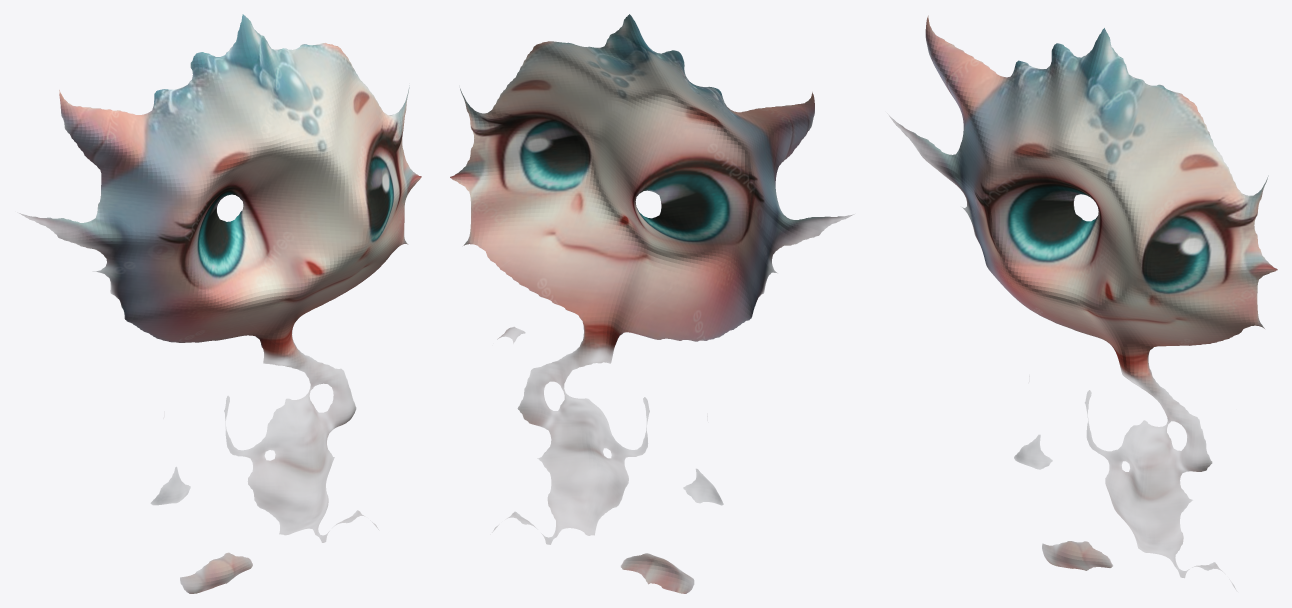
3 views of the same model, side by side, from view 1: azimuth 30°, elevation 25°; view 2: azimuth 150°, elevation 25°; view 3: azimuth 330°, elevation 25° (orthographic). The views are drawn at different scales.
Parts seen in each view (by area): view 1: NuriDragon; view 2: NuriDragon; view 3: NuriDragon.
Part boxes in pixels (<box>): NuriDragon: <box>19,14,421,593</box>; NuriDragon: <box>450,14,851,593</box>; NuriDragon: <box>889,15,1277,587</box>.
Size of the model in its own units: 1.54 by 2.05 by 0.2994.
1 material, 1 textured.
